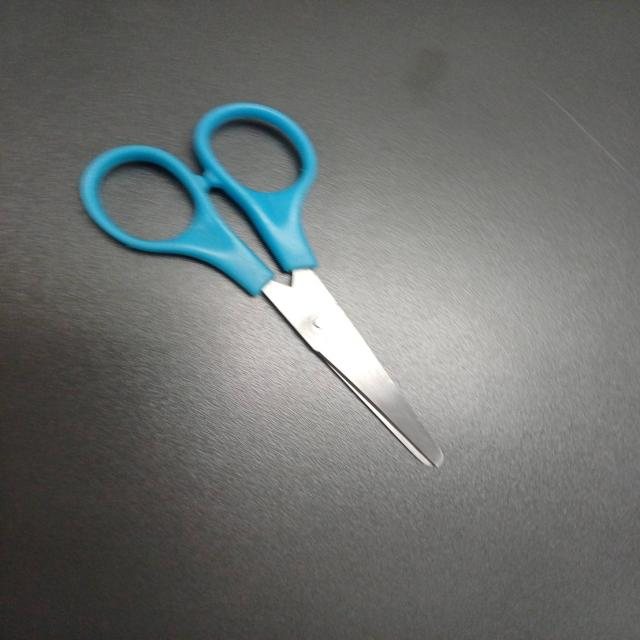scissors: (75, 97, 449, 475)
